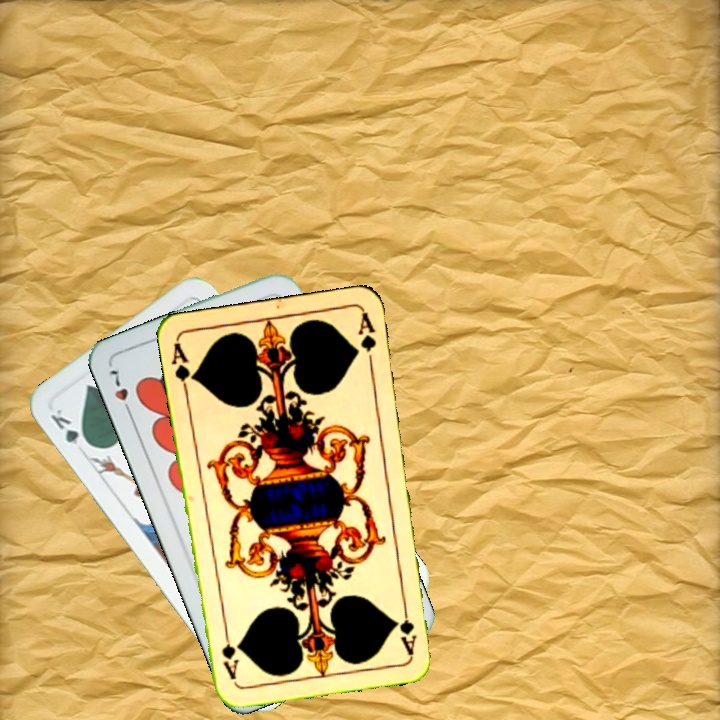GA: (168, 338, 199, 397), (396, 597, 420, 657)
GK: (46, 405, 94, 450)
H7: (104, 363, 135, 420)
